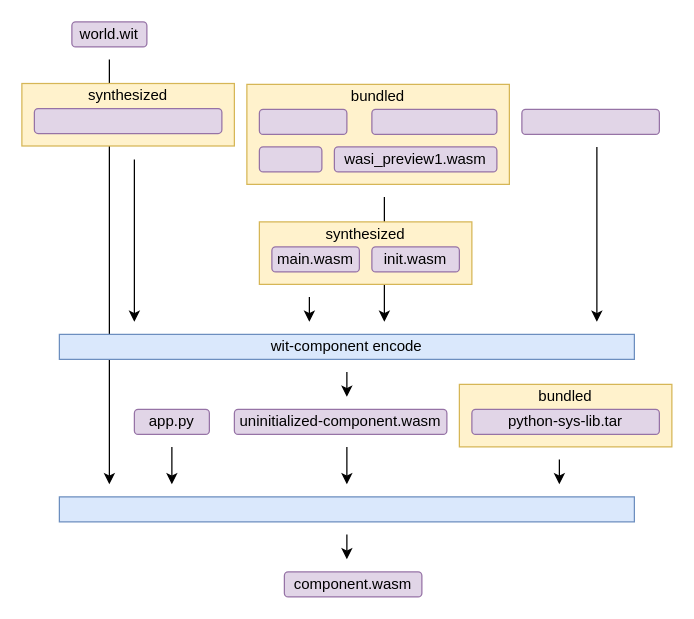
The diagram is 694 pixels wide and 619 high, and some of its shapes have lost their labels. Here are the shapes that lost their labels. From the top down, the box of each, then its label:
(33, 107, 222, 134): generated-lift-lower.wasm
(258, 108, 347, 134): runtime.so
(371, 108, 497, 134): libpython3.11.so
(521, 108, 659, 134): native-extension.so
(258, 146, 322, 172): libc.so
(58, 496, 634, 522): component-init
